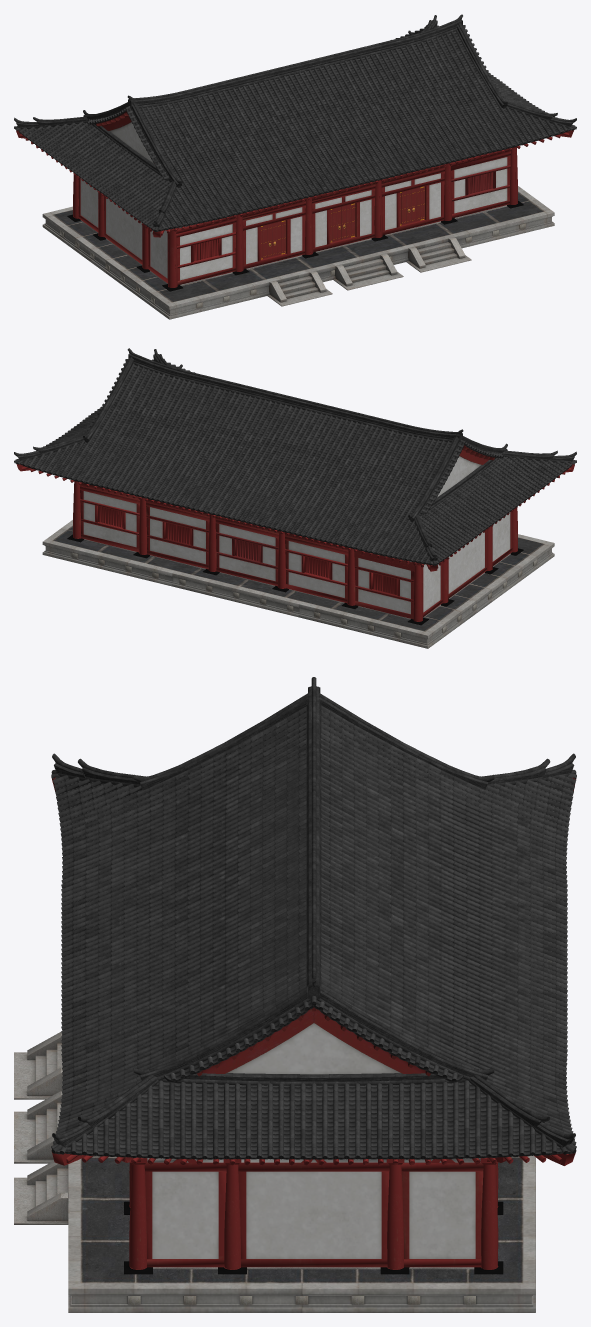
The model's file is gangdang.glb.
3 renders of one model, top to bottom at view 1: azimuth 30°, elevation 25°; view 2: azimuth 150°, elevation 25°; view 3: azimuth 270°, elevation 25°, orthographic. The views are drawn at different scales.
Visible parts, largest first — view 1: SM_IDBA_008_Roof_01, SM_IDBA_008_Wall, SM_IDBA_008_Roof_02, SM_IDBA_008_Wallwood, SM_IDBA_008_Stereobate, SM_IDBA_008_Floor, SM_IDBA_008_Roof_03, SM_IDBA_008_Roof_04, SM_IDBA_008_Pillar, SM_IDBA_008_Stair_side, SM_IDBA_008_Window, SM_IDBA_008_Stair_main (+8 smaller); view 2: SM_IDBA_008_Roof_01, SM_IDBA_008_Wall, SM_IDBA_008_Stereobate, SM_IDBA_008_Roof_02, SM_IDBA_008_Wallwood, SM_IDBA_008_Floor, SM_IDBA_008_Window, SM_IDBA_008_Roof_03, SM_IDBA_008_Roof_04, SM_IDBA_008_Pillar, SM_IDBA_008_Foundationstone, SM_IDBA_008_Rafter; view 3: SM_IDBA_008_Roof_01, SM_IDBA_008_Roof_02, SM_IDBA_008_Wall, SM_IDBA_008_Roof_03, SM_IDBA_008_Stereobate, SM_IDBA_008_Floor, SM_IDBA_008_Wallwood, SM_IDBA_008_Pillar, SM_IDBA_008_Stair_side, SM_IDBA_008_Roof_04, SM_IDBA_008_Bakgong, SM_IDBA_008_Stair_main (+2 smaller).
Part boxes in pixels (box(x1,y1,x2,y2)): SM_IDBA_008_Roof_01: box(139, 27, 567, 230); SM_IDBA_008_Wall: box(80, 122, 507, 280); SM_IDBA_008_Roof_02: box(14, 25, 576, 231); SM_IDBA_008_Wallwood: box(78, 149, 510, 285); SM_IDBA_008_Stereobate: box(42, 186, 554, 319); SM_IDBA_008_Floor: box(52, 191, 545, 302); SM_IDBA_008_Roof_03: box(14, 15, 576, 227); SM_IDBA_008_Roof_04: box(127, 14, 462, 108); SM_IDBA_008_Pillar: box(73, 147, 517, 287); SM_IDBA_008_Stair_side: box(267, 237, 471, 306); SM_IDBA_008_Window: box(175, 165, 510, 268); SM_IDBA_008_Stair_main: box(333, 253, 403, 290); SM_IDBA_008_Roof_01: box(23, 362, 451, 564); SM_IDBA_008_Wall: box(83, 456, 510, 614); SM_IDBA_008_Stereobate: box(42, 520, 554, 648); SM_IDBA_008_Roof_02: box(14, 359, 576, 565); SM_IDBA_008_Wallwood: box(80, 483, 512, 619); SM_IDBA_008_Floor: box(52, 525, 544, 631); SM_IDBA_008_Window: box(80, 499, 413, 602); SM_IDBA_008_Roof_03: box(14, 349, 576, 561); SM_IDBA_008_Roof_04: box(127, 348, 463, 442); SM_IDBA_008_Pillar: box(73, 481, 517, 621); SM_IDBA_008_Foundationstone: box(67, 534, 523, 625); SM_IDBA_008_Rafter: box(21, 466, 571, 569); SM_IDBA_008_Roof_01: box(53, 705, 576, 1145); SM_IDBA_008_Roof_02: box(51, 770, 576, 1159); SM_IDBA_008_Wall: box(152, 1023, 475, 1258); SM_IDBA_008_Roof_03: box(52, 693, 575, 1149); SM_IDBA_008_Stereobate: box(68, 1155, 535, 1312); SM_IDBA_008_Floor: box(80, 1155, 523, 1283); SM_IDBA_008_Wallwood: box(144, 1162, 483, 1267); SM_IDBA_008_Pillar: box(129, 1163, 498, 1269); SM_IDBA_008_Stair_side: box(14, 1032, 68, 1224); SM_IDBA_008_Roof_04: box(306, 677, 321, 998); SM_IDBA_008_Bakgong: box(196, 1007, 430, 1076); SM_IDBA_008_Stair_main: box(14, 1091, 62, 1163).
Size of the model in its own units: 24.99 by 9.54 by 15.59.
34 materials, 31 textured.
